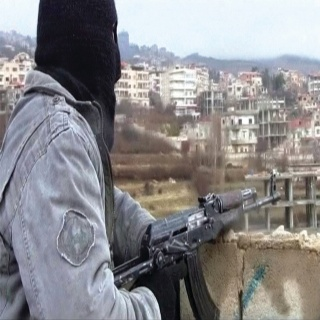rifle: (101, 184, 282, 320)
